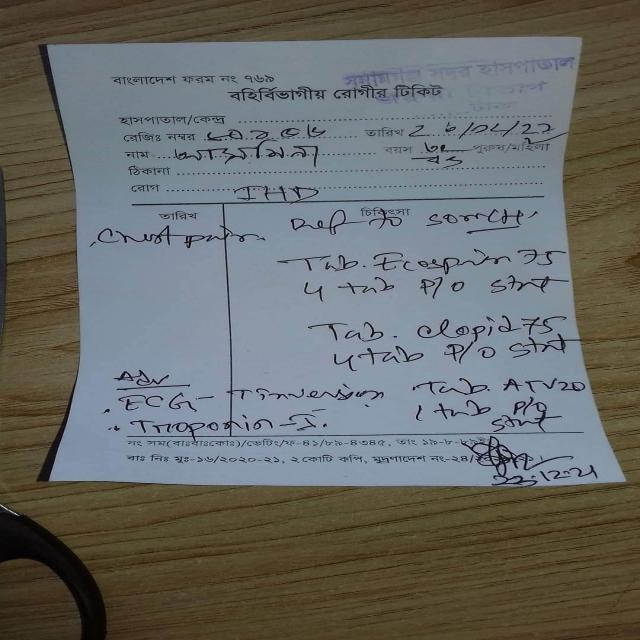ATV: (490, 374, 559, 394)
Clopid: (413, 317, 519, 341)
Ecosprin: (372, 248, 509, 272)
